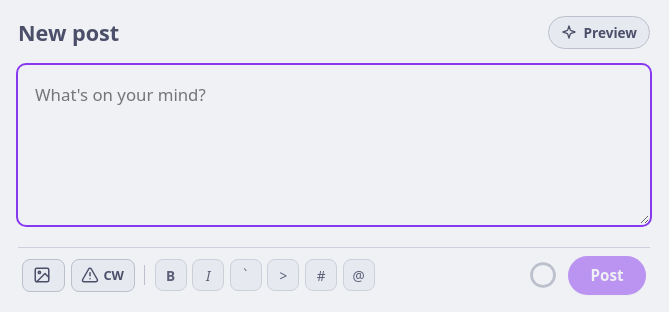
Test: ComposeRoute › inserts markdown syntax when format buttons are clicked
Click the button titled "Bold" at (171, 275), box 155,259 -> 187,291
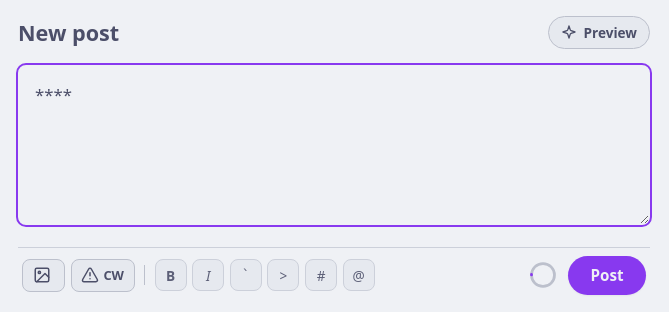
Check: the text box with placeholder "What's on your mind?" holds "****", box 18,65 -> 650,225
